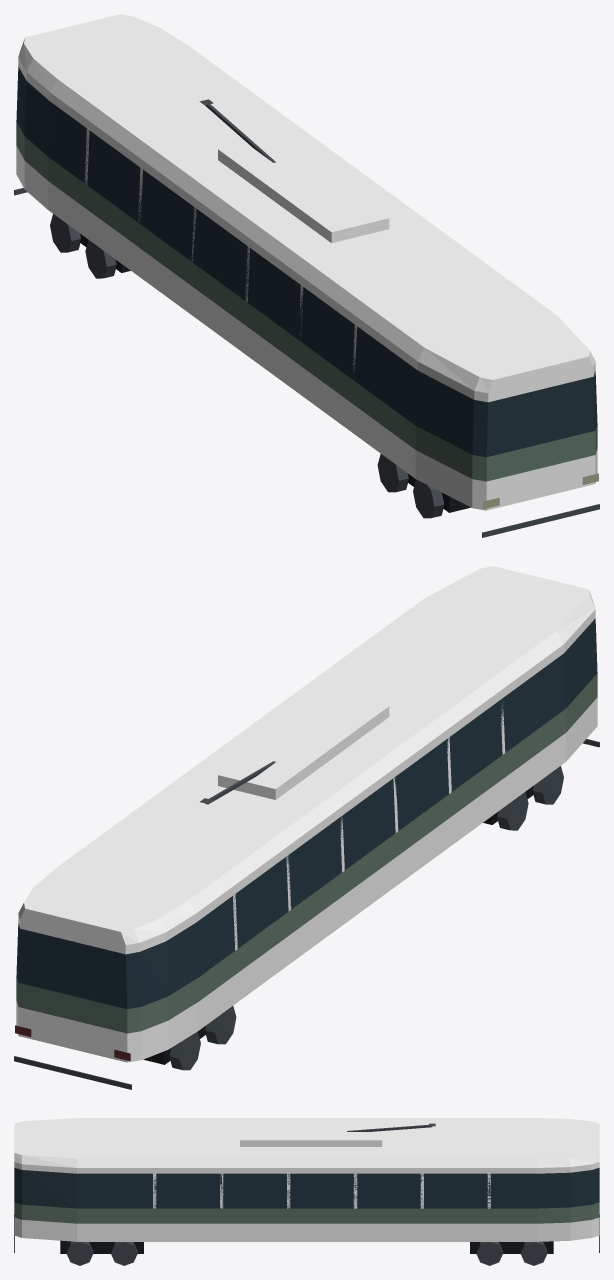
File: sf-streetcar.glb
The picture shows the model from 3 angles, top to bottom: view 1: azimuth 30°, elevation 25°; view 2: azimuth 150°, elevation 25°; view 3: azimuth 270°, elevation 25°; orthographic projection. The views are drawn at different scales.
Parts seen in each view (by area): view 1: vehicle_body; view 2: vehicle_body; view 3: vehicle_body.
Part boxes in pixels (x1,y1,x2,y2): vehicle_body: (14, 14, 599, 537); vehicle_body: (14, 566, 599, 1089); vehicle_body: (14, 1118, 599, 1265).
Bounding box in the file's own units: 2.6 × 3.2 × 14.02.
